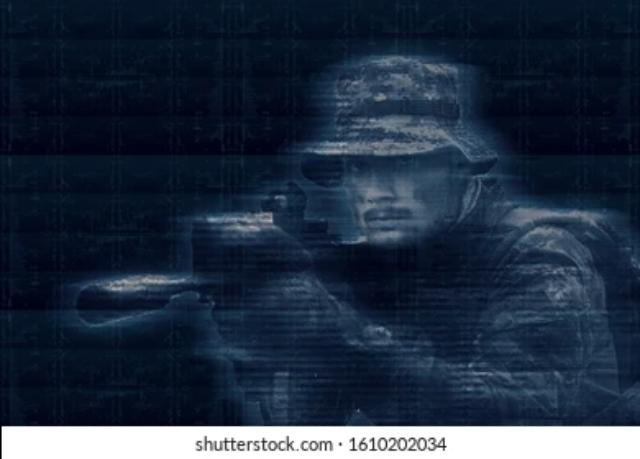other: (225, 59, 627, 406)
